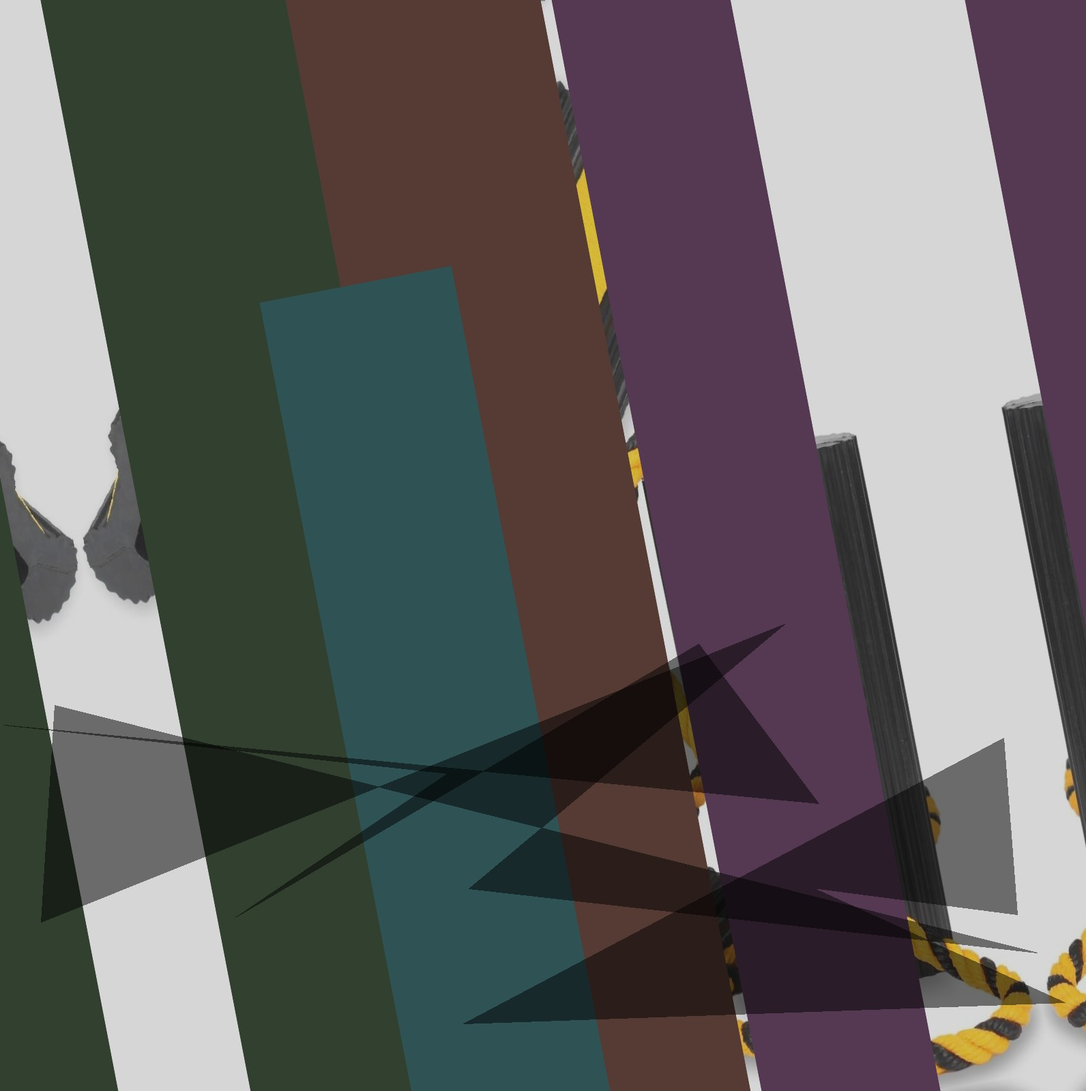chock: (7, 79, 500, 687), (257, 57, 745, 664), (633, 408, 972, 1015), (339, 704, 771, 1091)
